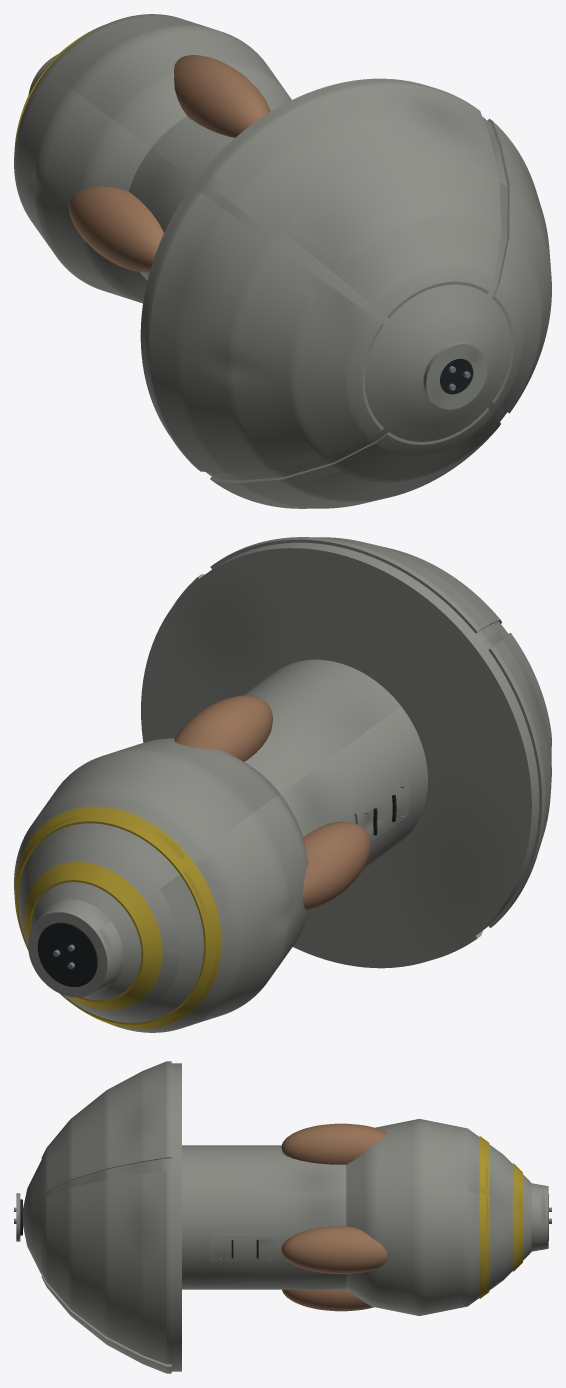
The picture shows the model from 3 angles, top to bottom: view 1: azimuth 30°, elevation 25°; view 2: azimuth 150°, elevation 25°; view 3: azimuth 270°, elevation 25°; orthographic projection. The views are drawn at different scales.
Visible parts, largest first — view 1: Warp Generator dome sector 2, Warp Generator dome sector 3, Warp Generator rounded module, Warp Generator flared dome, Warp Generator dome sector 1, Warp Generator dome sector 0, Monitored energy duct 3, Warp Generator middle cylinder, Monitored energy duct 2, Warp Generator front bezel, Warp Generator front inlay; view 2: Warp Generator flared dome, Warp Generator rounded module, Warp Generator middle cylinder, Warp Generator yellow band 0, Warp Generator yellow band 1, Warp Generator dome sector 2, Warp Generator dome sector 3, Monitored energy duct 3, Warp Generator rear bezel, Monitored energy duct 2, Warp Generator rear inlay, Warp Generator service cover 1; view 3: Warp Generator rounded module, Warp Generator dome sector 0, Warp Generator middle cylinder, Warp Generator dome sector 3, Warp Generator flared dome, Monitored energy duct 1, Monitored energy duct 2, Warp Generator service cover 0, Warp Generator yellow band 0, Monitored energy duct 4, Warp Generator rear bezel, Warp Generator dome sector 1 (+1 smaller).
Boxes of the visible parts, <box> form: Warp Generator dome sector 2: <box>145,190,383,473</box>; Warp Generator dome sector 3: <box>210,81,501,318</box>; Warp Generator rounded module: <box>14,14,291,303</box>; Warp Generator flared dome: <box>140,78,511,480</box>; Warp Generator dome sector 1: <box>210,408,500,508</box>; Warp Generator dome sector 0: <box>487,118,551,413</box>; Monitored energy duct 3: <box>68,186,163,272</box>; Warp Generator middle cylinder: <box>129,110,271,280</box>; Monitored energy duct 2: <box>174,55,270,137</box>; Warp Generator front bezel: <box>423,342,487,409</box>; Warp Generator front inlay: <box>440,358,472,394</box>; Warp Generator flared dome: <box>141,542,539,968</box>; Warp Generator rounded module: <box>14,738,307,1032</box>; Warp Generator middle cylinder: <box>243,659,427,869</box>; Warp Generator yellow band 0: <box>14,806,221,1029</box>; Warp Generator yellow band 1: <box>24,862,162,1010</box>; Warp Generator dome sector 2: <box>488,633,551,927</box>; Warp Generator dome sector 3: <box>210,537,501,633</box>; Monitored energy duct 3: <box>303,821,370,910</box>; Warp Generator rear bezel: <box>28,899,123,997</box>; Monitored energy duct 2: <box>174,695,273,761</box>; Warp Generator rear inlay: <box>37,922,97,986</box>; Warp Generator service cover 1: <box>354,776,409,842</box>; Warp Generator rounded module: <box>346,1119,531,1315</box>; Warp Generator dome sector 0: <box>41,1170,171,1361</box>; Warp Generator middle cylinder: <box>182,1145,346,1289</box>; Warp Generator dome sector 3: <box>41,1061,171,1194</box>; Warp Generator flared dome: <box>23,1063,181,1371</box>; Monitored energy duct 1: <box>281,1226,387,1273</box>; Monitored energy duct 2: <box>281,1123,387,1164</box>; Warp Generator service cover 0: <box>210,1234,279,1261</box>; Warp Generator yellow band 0: <box>479,1136,489,1298</box>; Monitored energy duct 4: <box>282,1289,373,1311</box>; Warp Generator rear bezel: <box>531,1183,548,1251</box>; Warp Generator dome sector 1: <box>41,1273,171,1373</box>.
Bounding box in the file's own units: 1.3 × 1.3 × 2.24.
5 materials, 3 textured.
